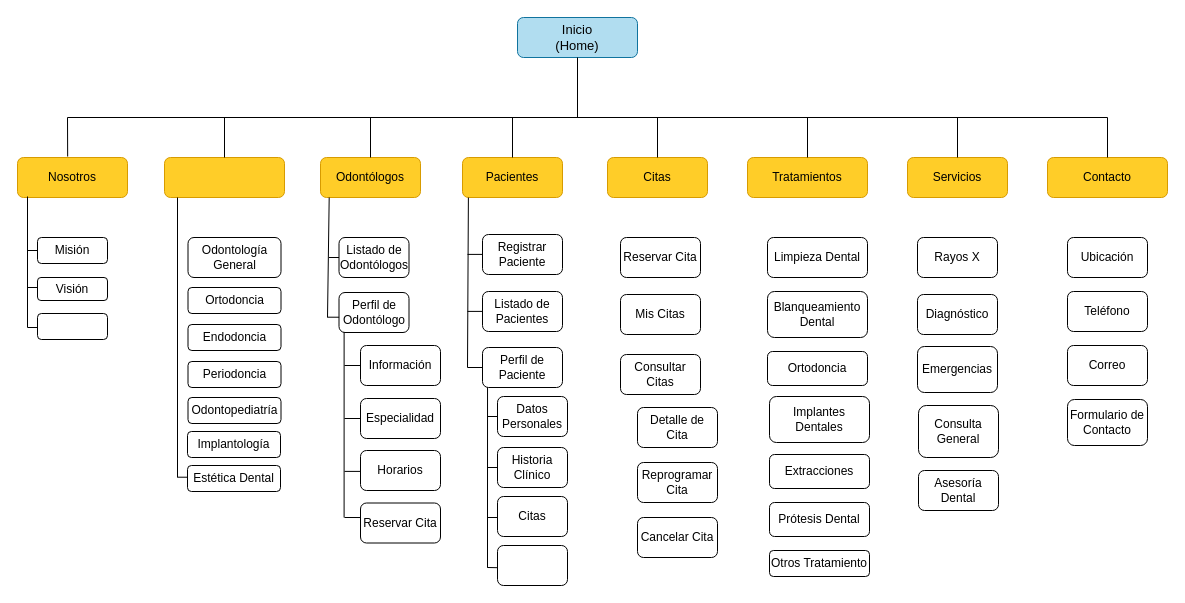
This 1185x603 diagram has some shape labels left out. The centre of each missing label's shape, as x and y in pixels:
"Editar Datos" belongs at point 532,565.
"Especialidades" belongs at point 224,177.
"Historia" belongs at point 72,326.
